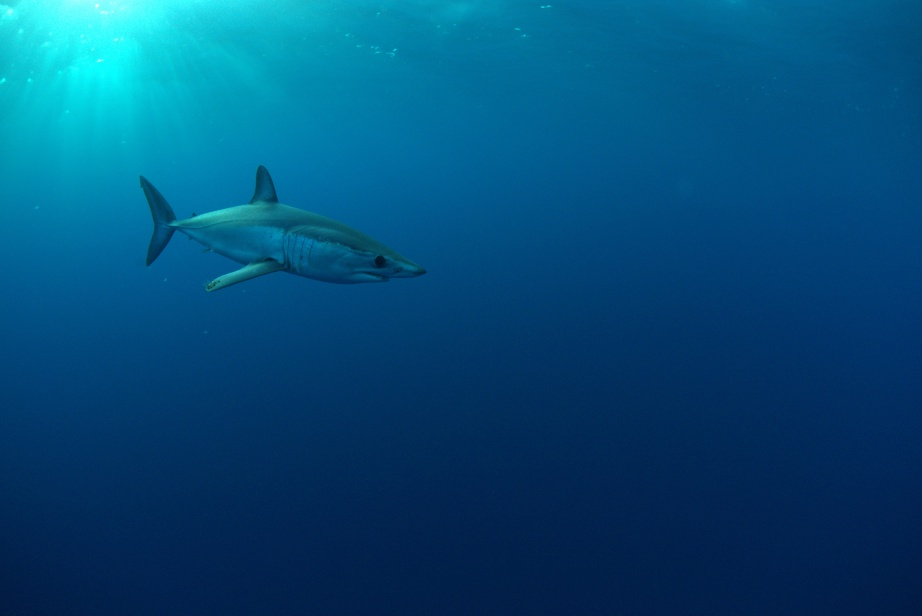Mako: (116, 156, 436, 305)
